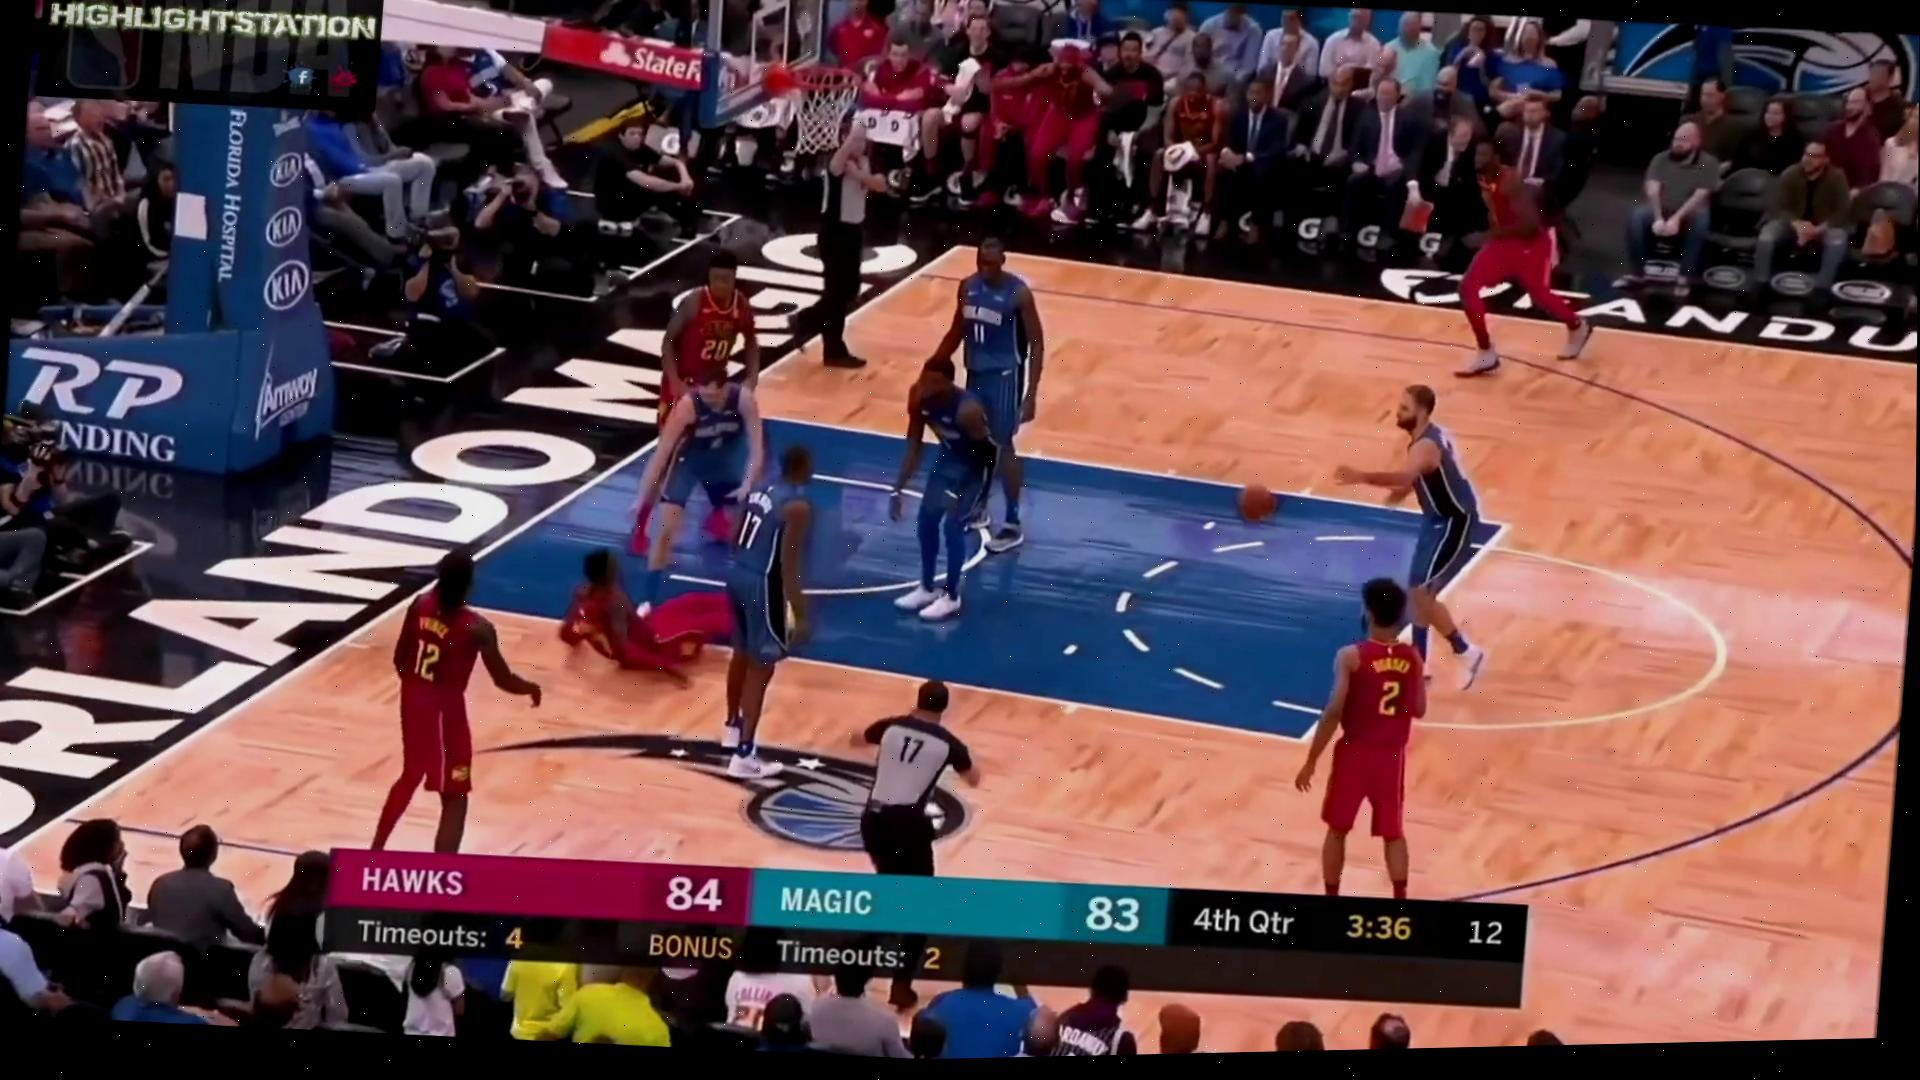no_foul: (599, 241, 793, 597)
